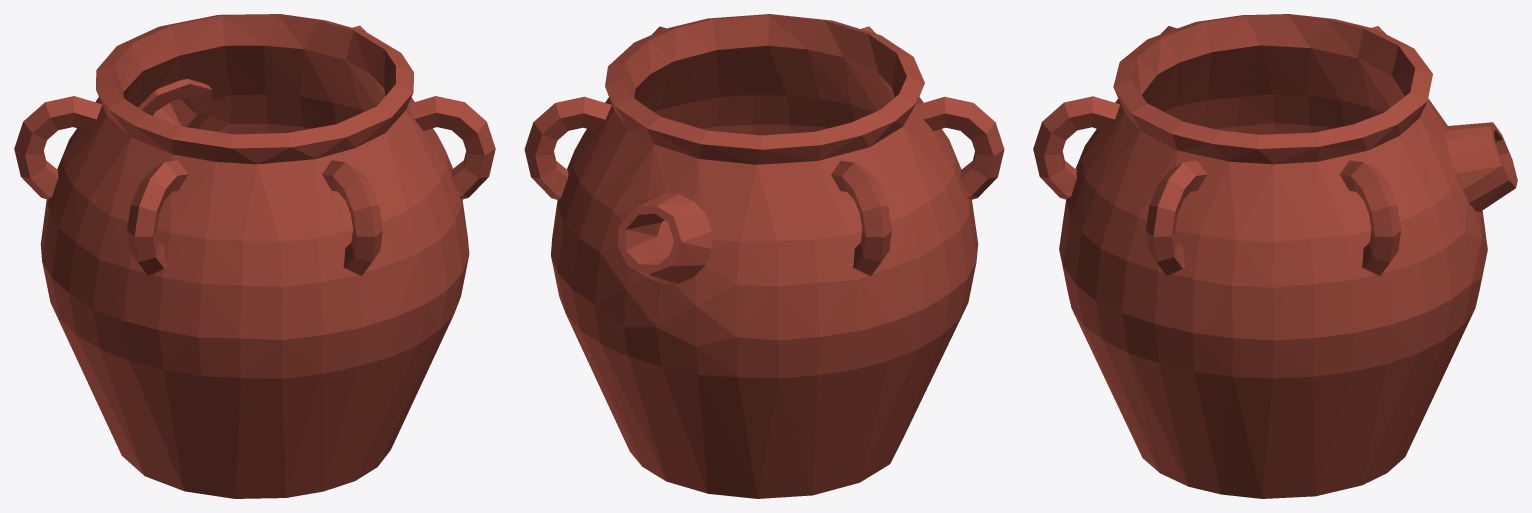
The model's file is Pottery 1_3.fbx.
3 views of the same model, side by side, from view 1: azimuth 30°, elevation 25°; view 2: azimuth 150°, elevation 25°; view 3: azimuth 270°, elevation 25° (orthographic).
Parts seen in each view (by area): view 1: Pottery 1_3; view 2: Pottery 1_3; view 3: Pottery 1_3.
Boxes of the visible parts, box(x1,y1,x2,y2) form: Pottery 1_3: box(14, 14, 495, 498); Pottery 1_3: box(524, 14, 1004, 498); Pottery 1_3: box(1033, 14, 1517, 498).
Bounding box in the file's own units: 88.22 × 83.31 × 99.75.
